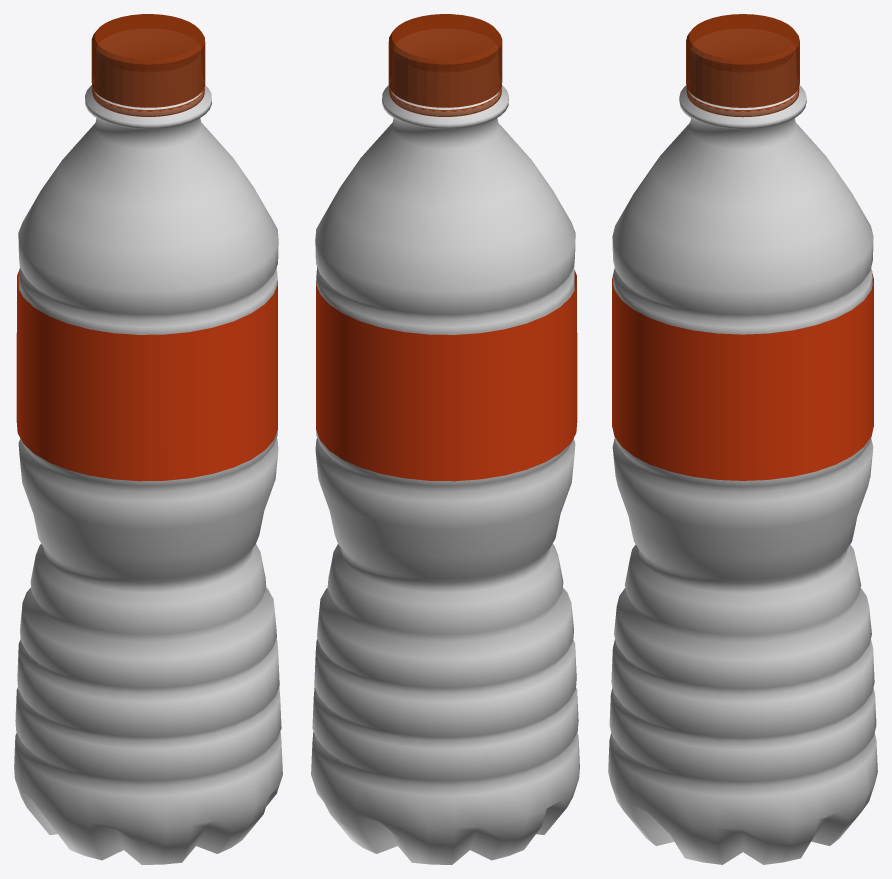
The model's file is BottleRed_float.glb.
3 views of the same model, side by side, from view 1: azimuth 30°, elevation 25°; view 2: azimuth 150°, elevation 25°; view 3: azimuth 270°, elevation 25° (orthographic).
Parts seen in each view (by area): view 1: bottle, label, cap, cap2; view 2: bottle, label, cap, cap2; view 3: bottle, label, cap, cap2.
Boxes of the visible parts, left/top/right/bottom form: bottle: left=14, top=85, right=282, bottom=864; label: left=16, top=270, right=277, bottom=481; cap: left=91, top=14, right=205, bottom=107; cap2: left=92, top=87, right=204, bottom=116; bottle: left=311, top=85, right=579, bottom=864; label: left=316, top=270, right=577, bottom=481; cap: left=388, top=14, right=502, bottom=107; cap2: left=389, top=87, right=501, bottom=116; bottle: left=608, top=85, right=877, bottom=864; label: left=612, top=271, right=873, bottom=480; cap: left=686, top=14, right=799, bottom=107; cap2: left=686, top=88, right=799, bottom=117.
Size of the model in its own units: 0.0652 by 0.2097 by 0.0652.
